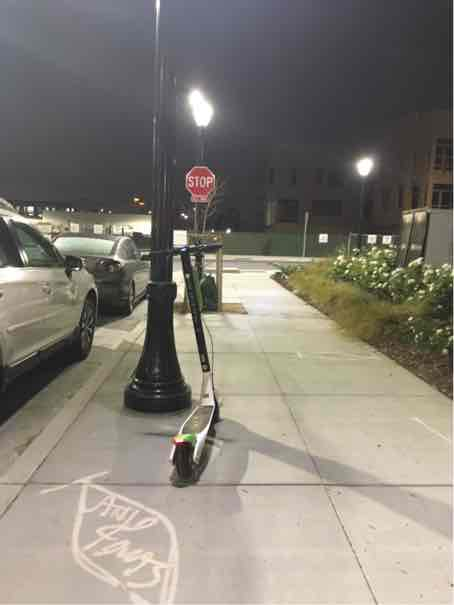scooter: (156, 245, 239, 479)
